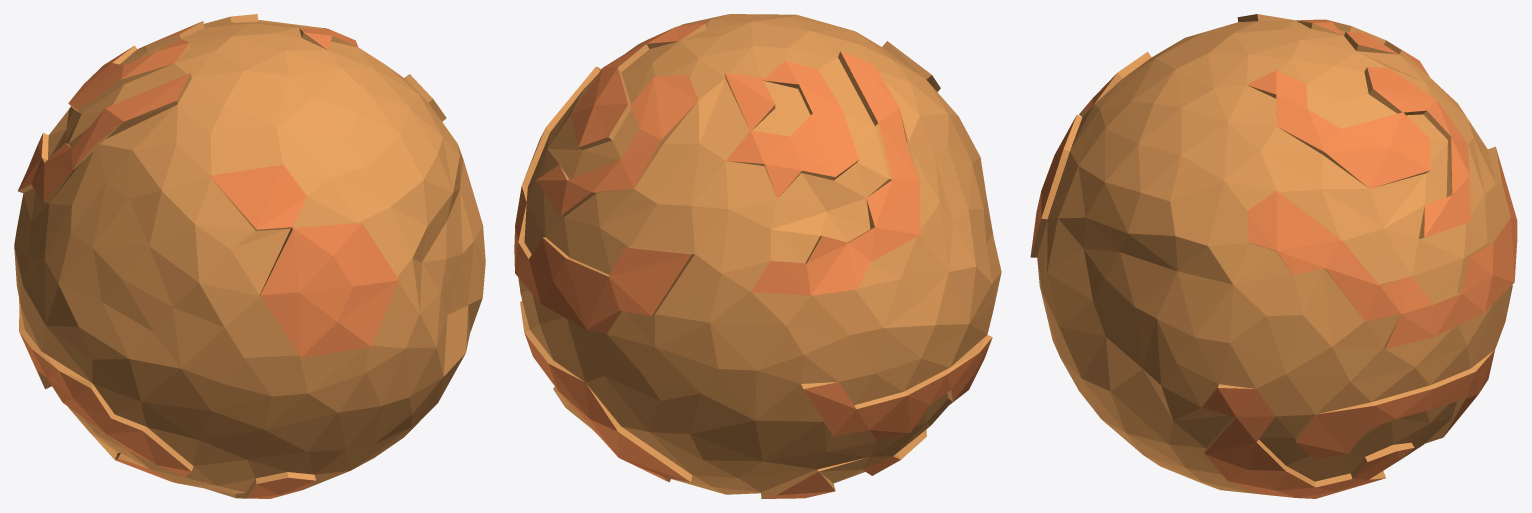
The model's file is MARS.fbx.
3 renders of one model, left to right at view 1: azimuth 30°, elevation 25°; view 2: azimuth 150°, elevation 25°; view 3: azimuth 270°, elevation 25°, orthographic. The views are drawn at different scales.
Visible parts, largest first — view 1: Icosphere; view 2: Icosphere; view 3: Icosphere.
Part boxes in pixels (box(x1,y1,x2,y2)): Icosphere: box(14, 14, 485, 498); Icosphere: box(514, 14, 1001, 498); Icosphere: box(1030, 14, 1517, 498).
Bounding box in the file's own units: 200 × 202 × 205.
